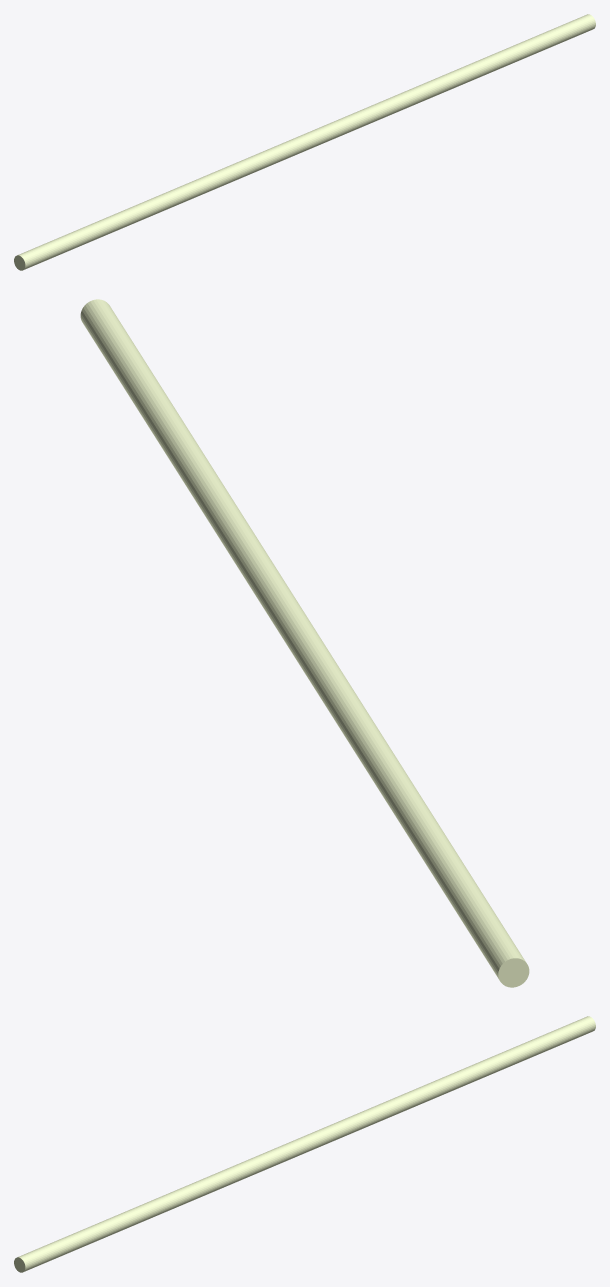
Rendered from emi_left_top.glb.
3 views of the same model, one above another, from view 1: azimuth 90°, elevation 25°; view 2: azimuth 150°, elevation 25°; view 3: azimuth 270°, elevation 25° (orthographic). The views are drawn at different scales.
Visible parts, largest first — view 1: 左下; view 2: 左下; view 3: 左下.
Part boxes in pixels (bbox=[...]): 左下: bbox=[14, 14, 595, 270]; 左下: bbox=[80, 299, 529, 987]; 左下: bbox=[14, 1016, 595, 1272].
Bounding box in the file's own units: 1.44 × 0.04 × 1.44.
